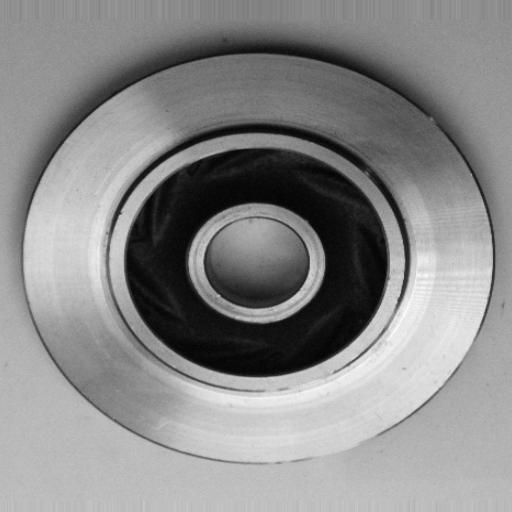scratch: (248, 366, 353, 400)
unpolished_casting: (20, 51, 498, 468)
